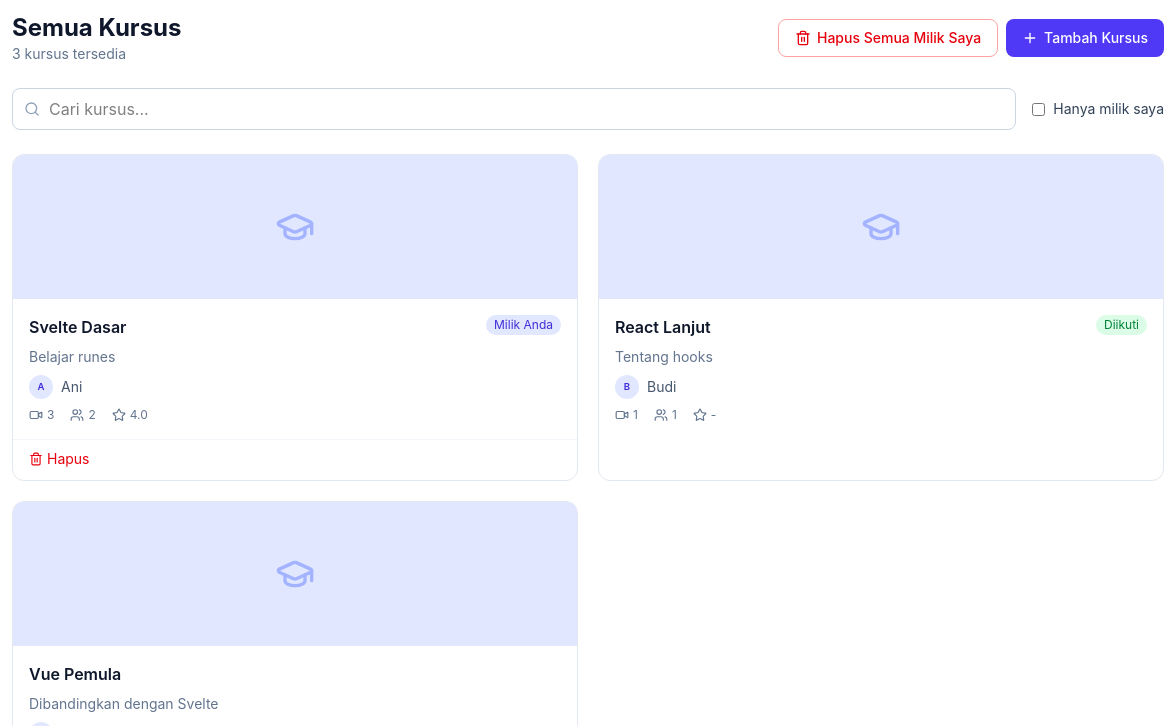
menghapus kursus › menghapus kursus milik sendiri setelah dikonfirmasi
Expected: the heading "Svelte Dasar" is shown, [29,315,126,339]
Click the button "Hapus".
click(59, 459)  # box [29,449,90,469]
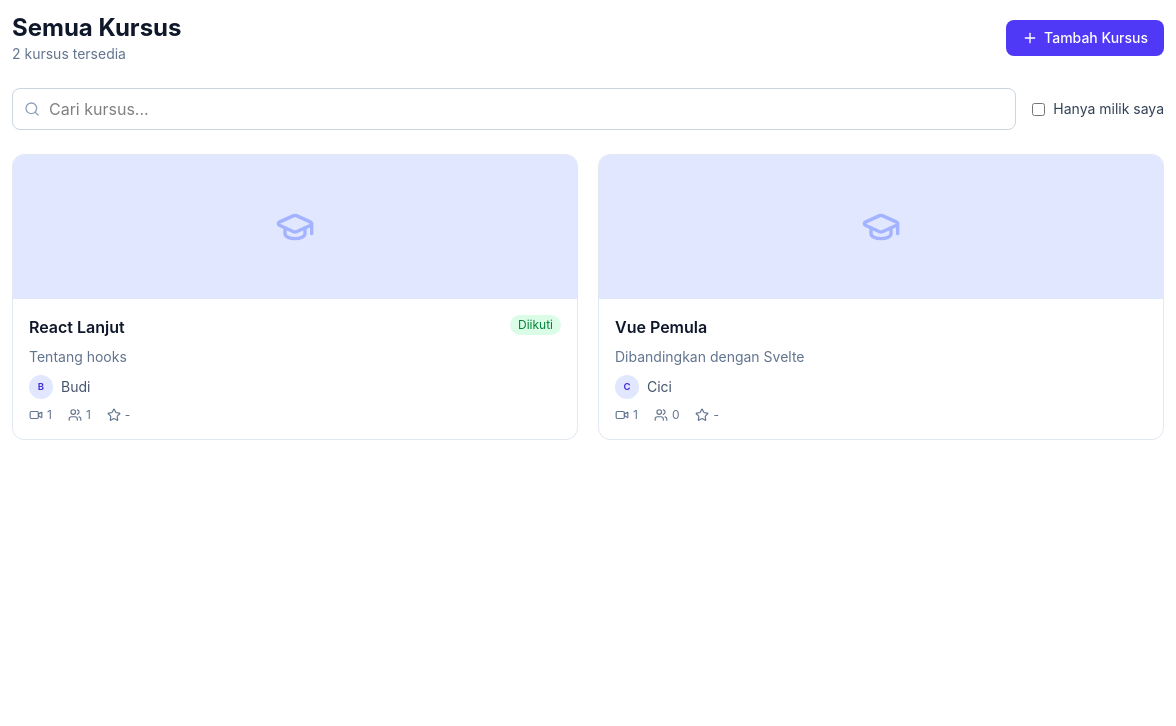
Expected: the link "Svelte Dasar" is gone
